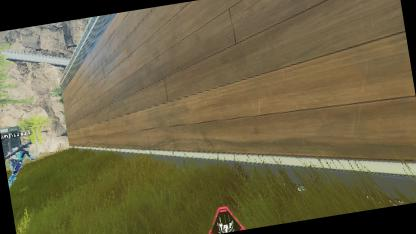Target: (5, 140, 34, 184)
